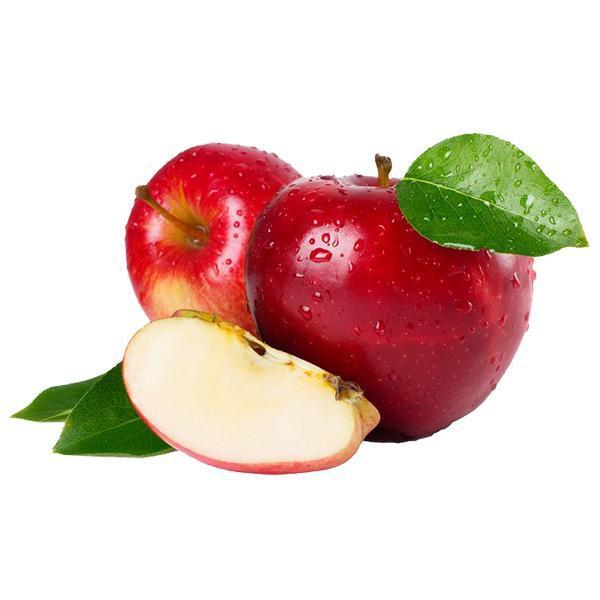apples: (269, 170, 536, 419), (72, 318, 396, 472), (73, 126, 278, 320)
